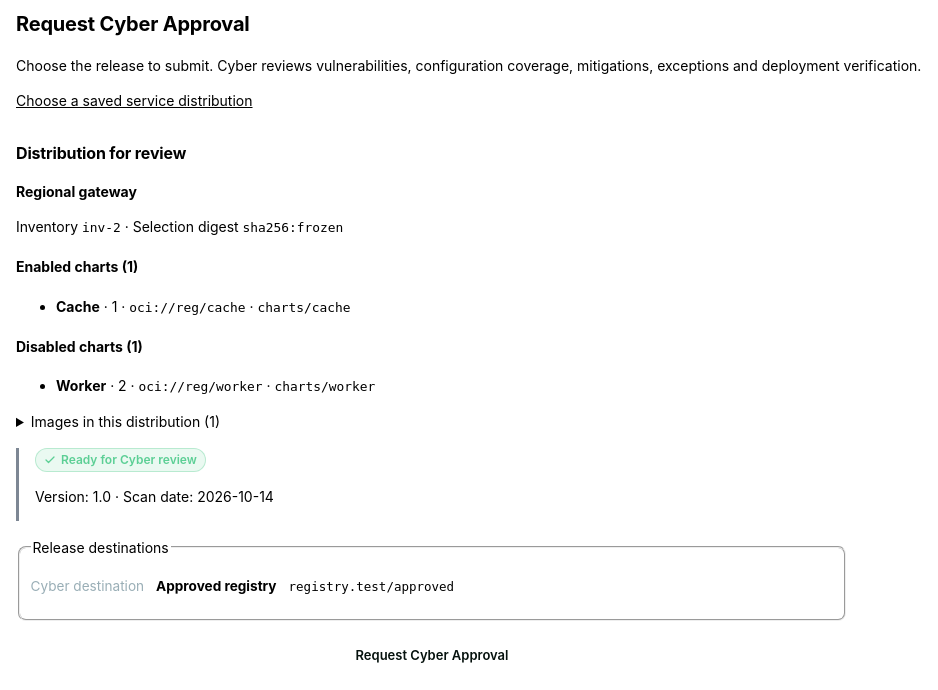
it: requests the exact saved distribution and its reviewed scan execution
Expected: the text "Ready for Cyber review" is shown, [61, 454, 197, 466]
Expected: the text "Regional gateway" is shown, [16, 183, 137, 200]
What coordinates should you click on to do the following:
click the button "Request Cyber Approval"
I would click on:
 (432, 655)
Its box is [16, 637, 848, 673].
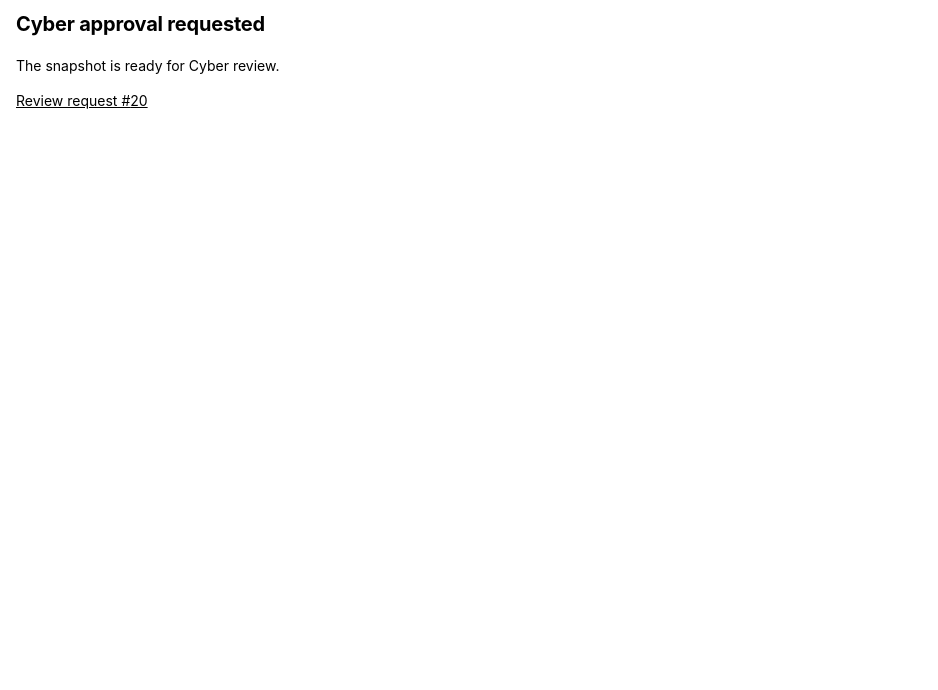
Expected: the link "Review request #20" is shown, [16, 92, 148, 109]
